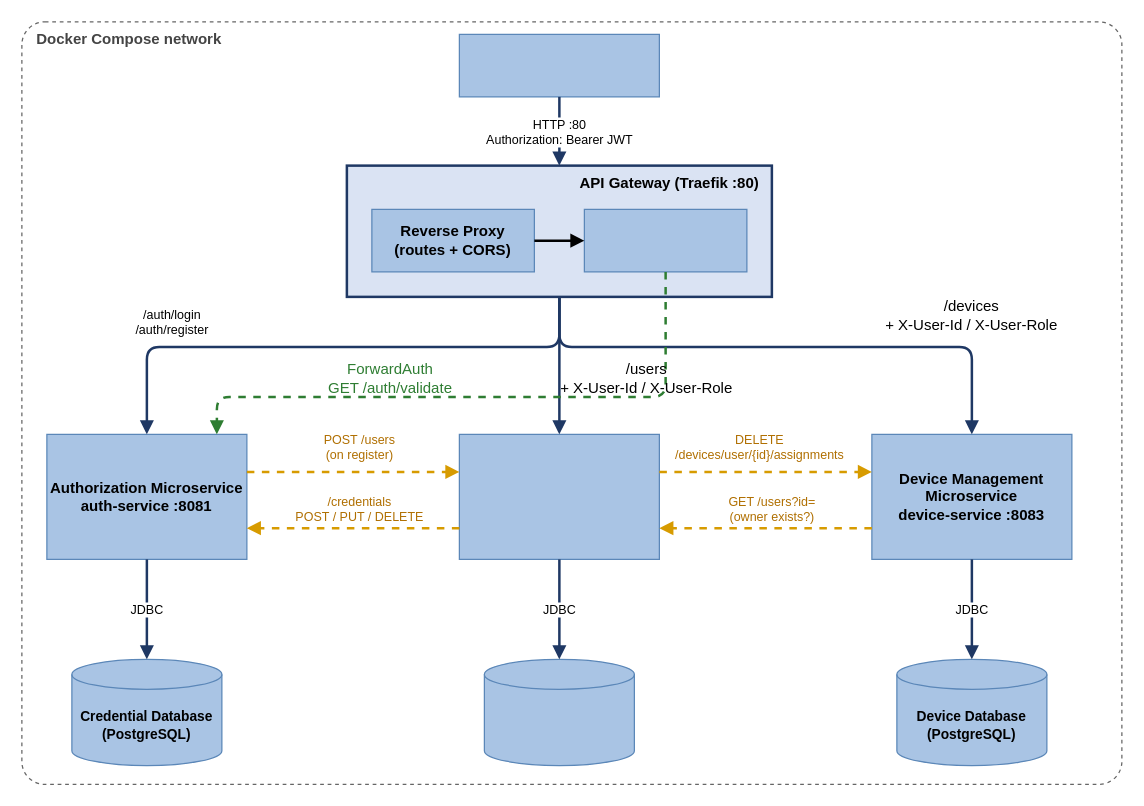
This 1144x806 diagram has some shape labels left out. The box of each missing label's shape, as (x1, y1, x2, y2) in pixels:
Frontend (Angular) frontend-service :3000: (458, 33, 659, 97)
User Database (PostgreSQL): (483, 658, 634, 766)
User Management Microservice user-service :8082: (458, 433, 659, 559)
Validation (ForwardAuth): (583, 208, 747, 272)
